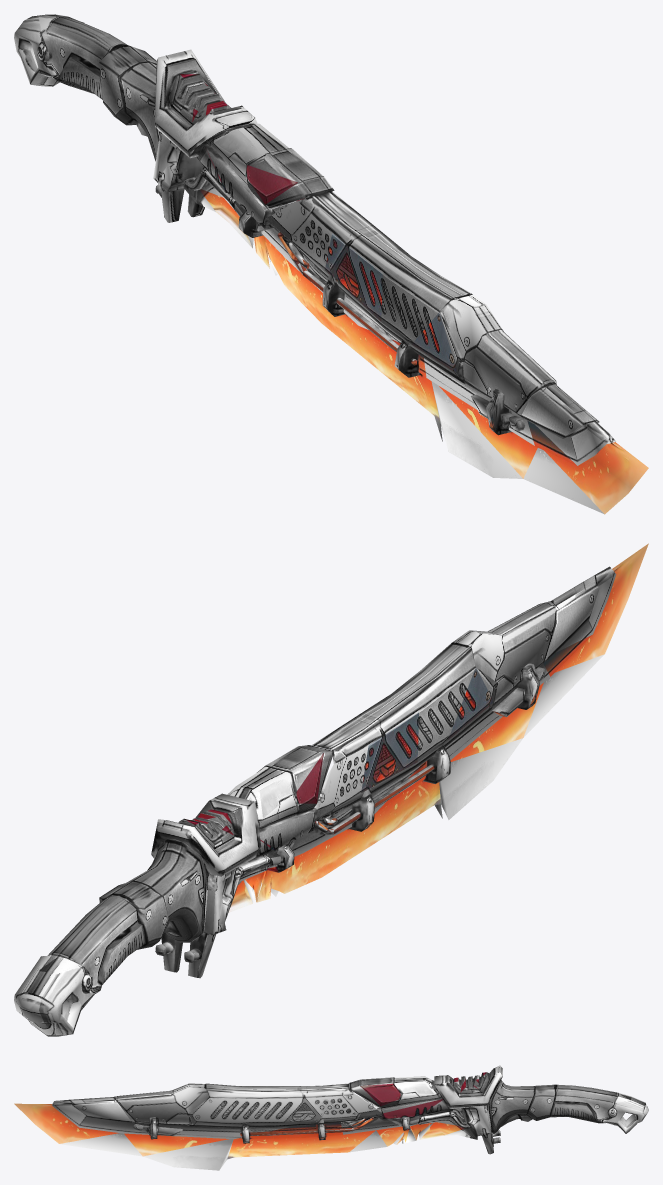
The picture shows the model from 3 angles, top to bottom: view 1: azimuth 30°, elevation 25°; view 2: azimuth 150°, elevation 25°; view 3: azimuth 270°, elevation 25°; orthographic projection. The views are drawn at different scales.
Visible parts, largest first — view 1: gun; view 2: gun; view 3: gun.
Part boxes in pixels (x1,y1,x2,y2): gun: [14, 14, 648, 514]; gun: [14, 543, 648, 1036]; gun: [14, 1065, 648, 1170].
Bounding box in the file's own units: 0.1786 × 0.4697 × 2.67.
Materials: 5 (5 with a texture image).
